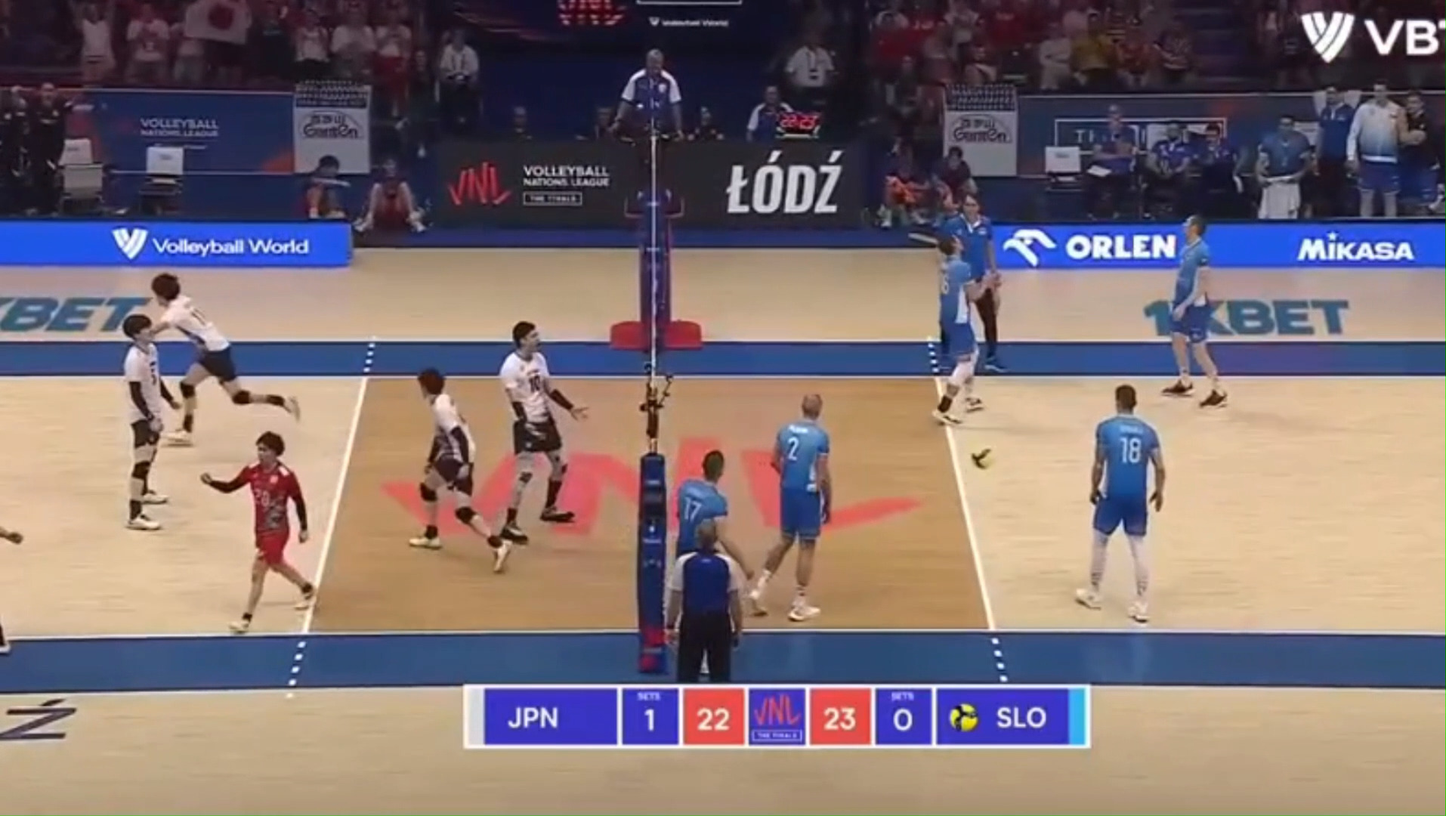ball: (969, 447, 992, 468)
player: (1076, 385, 1166, 623), (749, 394, 832, 621), (1162, 215, 1227, 406), (932, 236, 986, 424), (675, 450, 752, 578)
player 1: (150, 273, 299, 446), (200, 431, 314, 633), (409, 368, 521, 572), (499, 321, 586, 543), (122, 314, 178, 530)
referee: (665, 512, 743, 682), (613, 48, 682, 218), (940, 194, 1003, 372)
